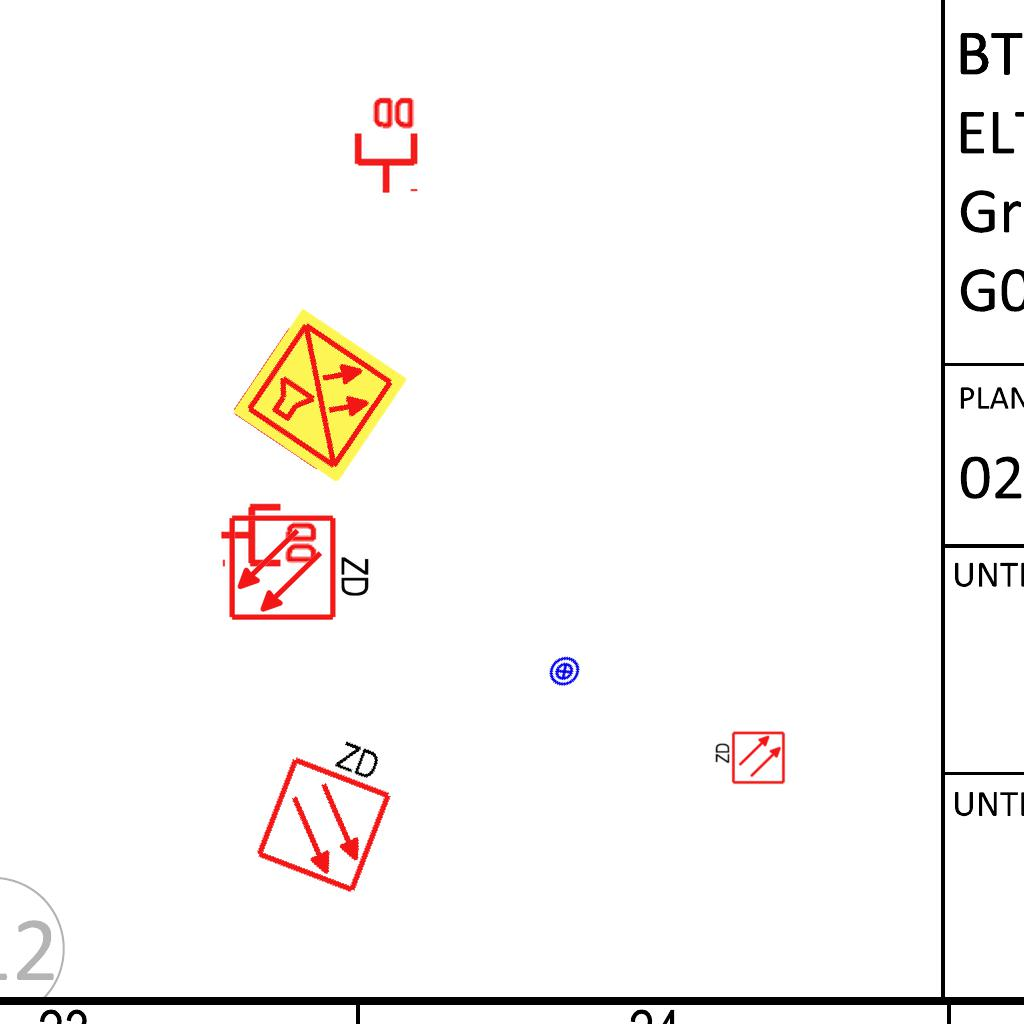Datenanschluss_zweifach: (350, 93, 419, 196), (218, 499, 321, 568)
OKW_Multisensormelder_(Kombination_optischer_Rauch-Kahlenmonoxid_Waerme-Melder): (228, 304, 412, 488)
Taster_beleuchtet: (541, 648, 588, 695)
ZD_Melder_in_Zwischendecke_mit_Revisionsoeffnung_mind_40_x_40_cm: (249, 716, 409, 897), (227, 509, 376, 623), (712, 730, 786, 787)
